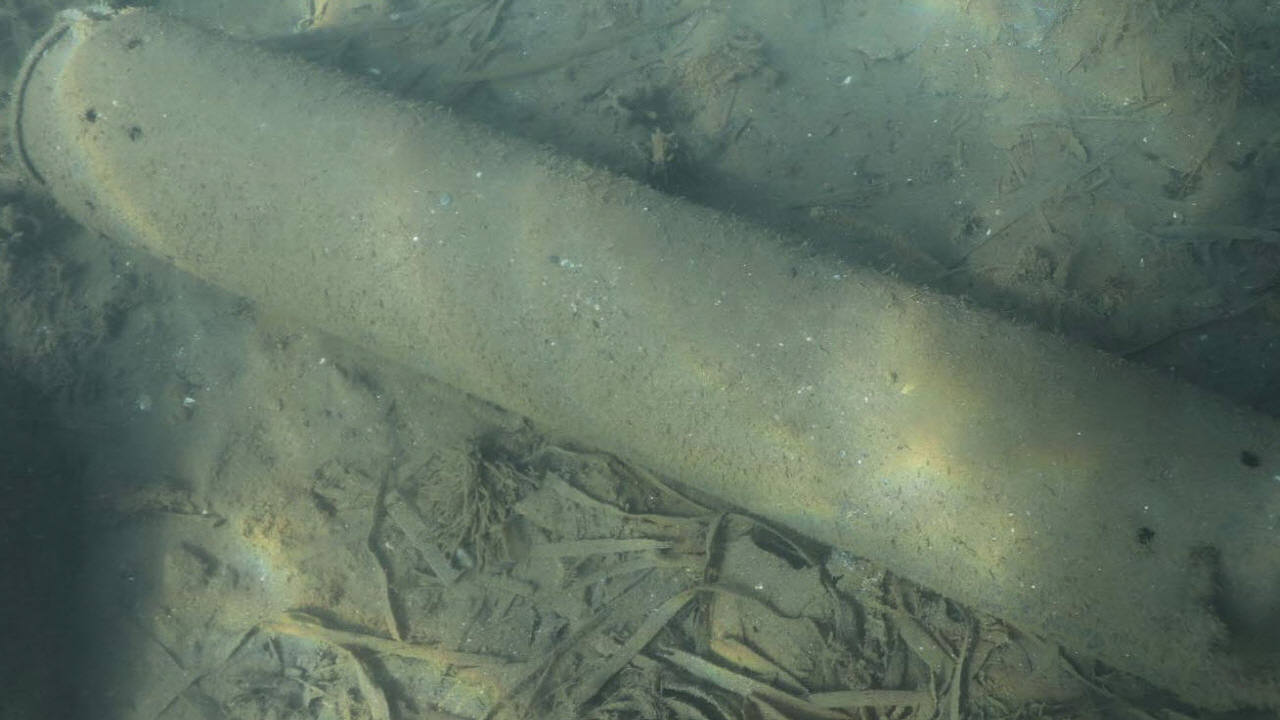eel fish trap: (8, 4, 1280, 719)
